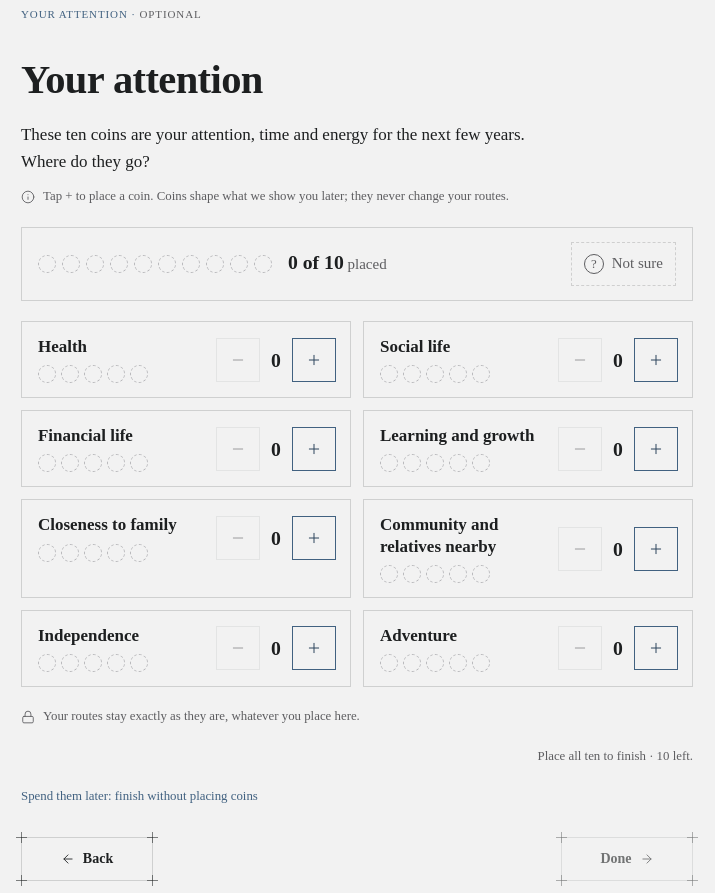
Test: says so when the save never reaches the server, and stays
Click the button "? Not sure" at (623, 264), box [571,242,676,286]
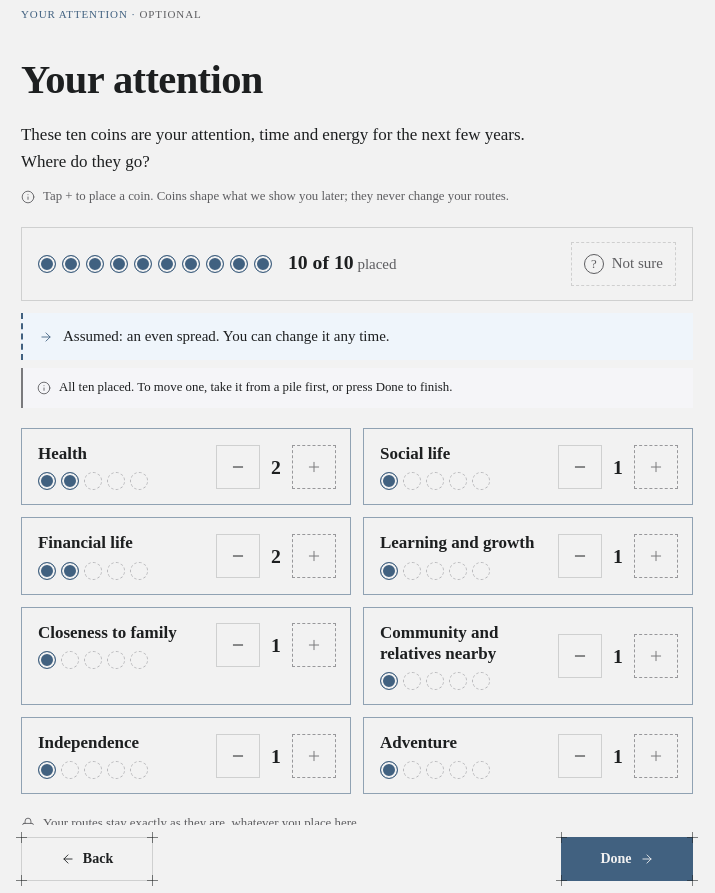
Click the button "Done" at (627, 859), box [561,837,693,881]
(page scrolled)
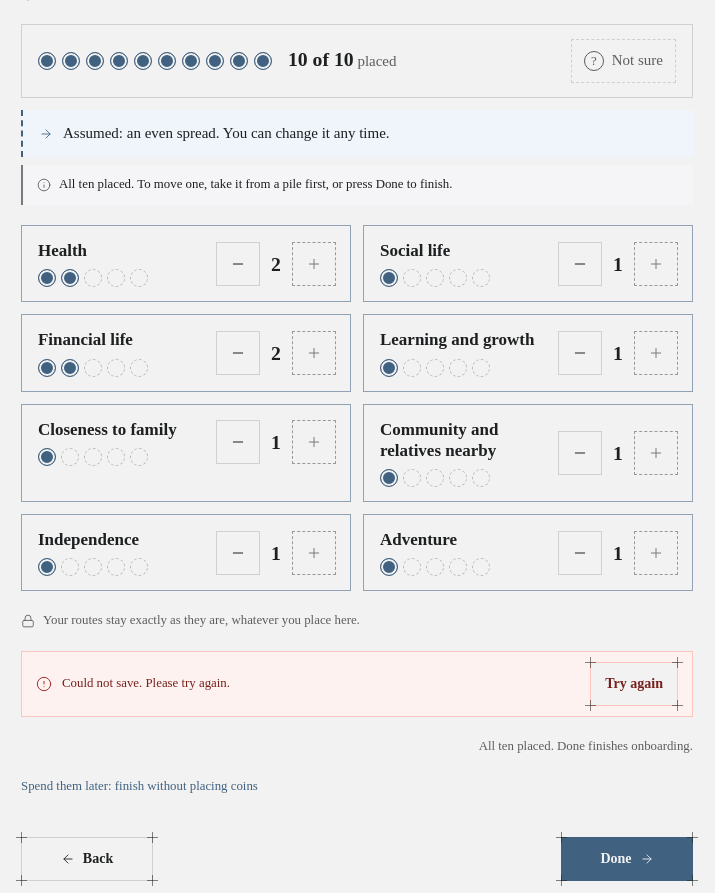
Expected: the message "Could not save. Please try again. Try again" is shown, [21,651,693,717]
Expected: the button "Try again" is shown, [590,662,678,706]
